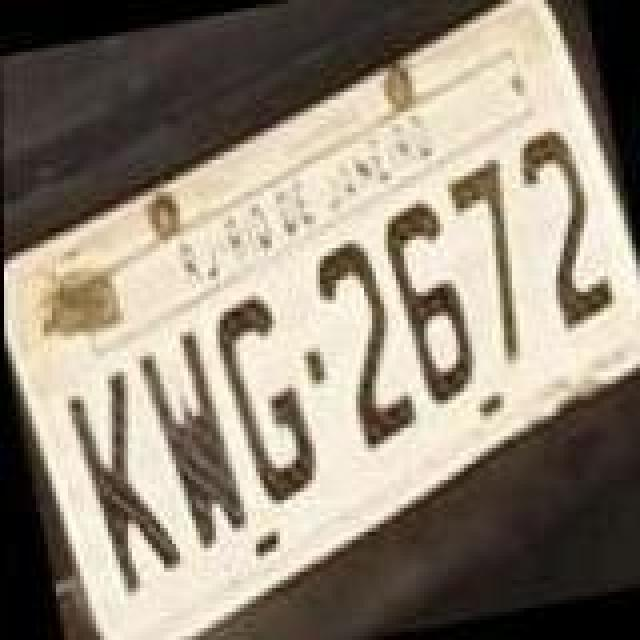2: (304, 230, 424, 458), (504, 122, 620, 342)
6: (372, 194, 484, 414)
7: (442, 152, 542, 368)
G: (204, 288, 324, 512)
K: (56, 360, 188, 600)
W: (128, 322, 252, 558)
